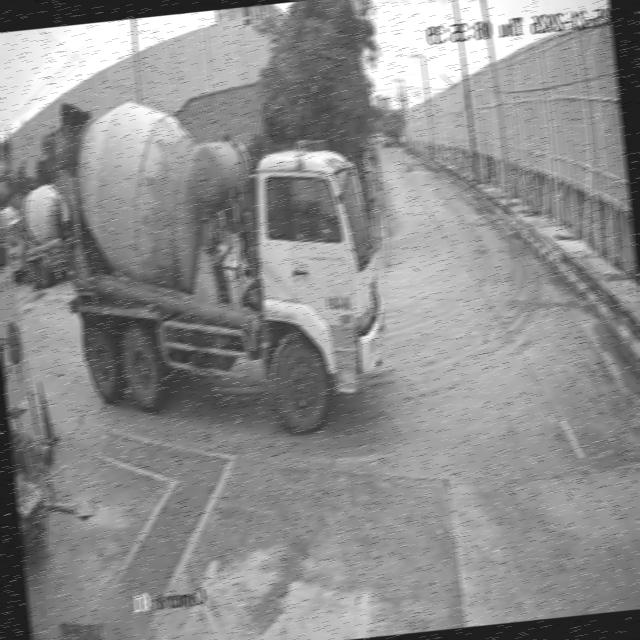cement_mixer_truck: (54, 62, 388, 459), (15, 173, 73, 286), (0, 212, 27, 270), (0, 199, 19, 246)
